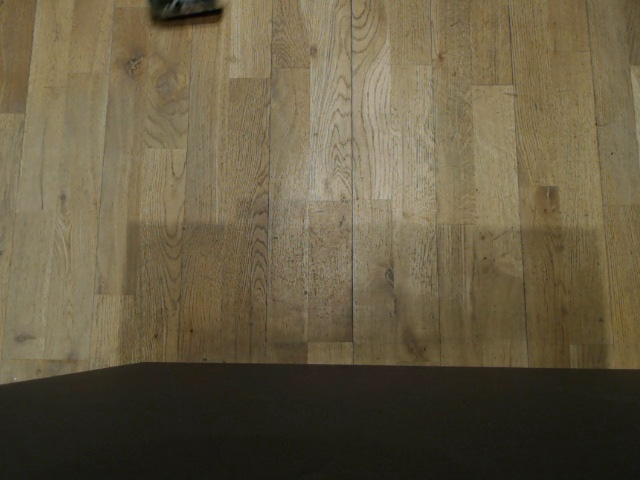beer: (144, 0, 227, 27)
